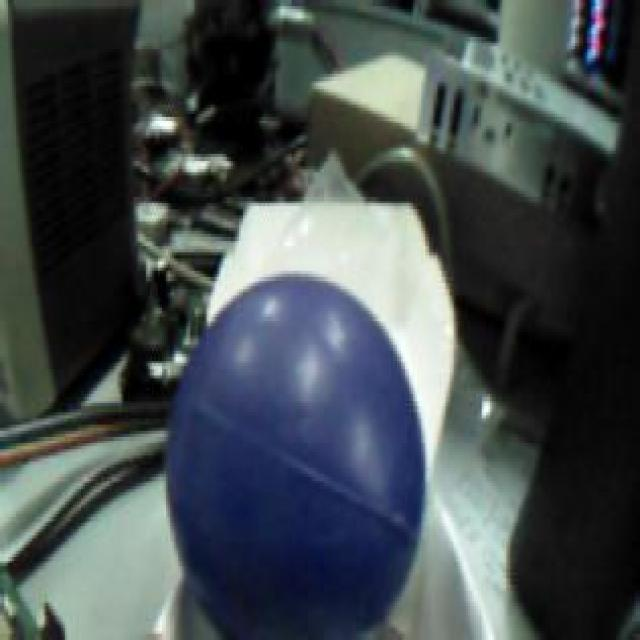BallPurple: (168, 272, 425, 640)
